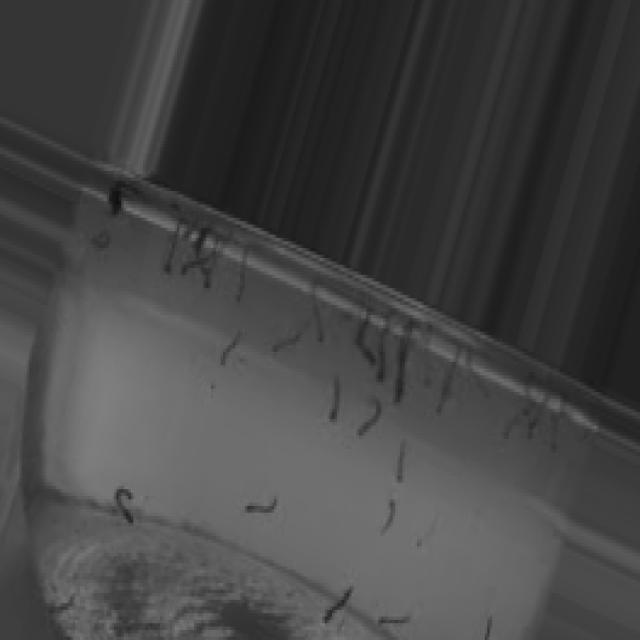larvas: (430, 343, 466, 418), (178, 234, 226, 278), (501, 395, 535, 442), (321, 584, 357, 628), (396, 314, 413, 407), (464, 348, 492, 404), (191, 229, 214, 292), (521, 399, 549, 444), (305, 279, 324, 337), (378, 317, 394, 382), (357, 311, 376, 365), (359, 402, 382, 440), (113, 483, 134, 524), (111, 186, 141, 214), (420, 330, 432, 396), (236, 245, 248, 307), (271, 330, 308, 350), (416, 516, 438, 549), (165, 222, 179, 272), (551, 405, 566, 451), (376, 610, 412, 629), (245, 496, 279, 516), (331, 374, 344, 425), (219, 334, 240, 364), (380, 503, 400, 533), (396, 442, 410, 480), (50, 594, 75, 615), (91, 227, 114, 249), (484, 615, 492, 640)
